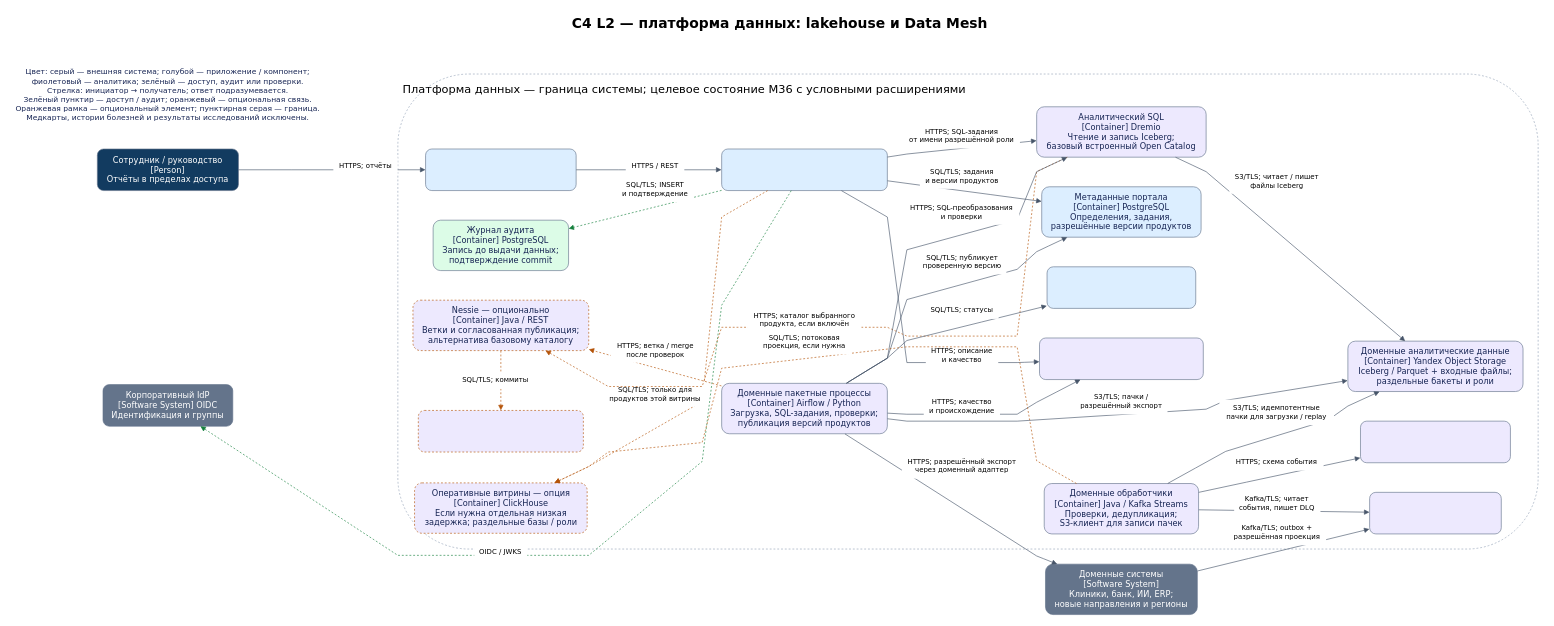
Some shapes in this 1554 by 626 pixel diagram are drawn without their labels. Each missing label, with the box of its shape:
API портала [Container] Go Доступ, планы и задания отчётов: (721, 148, 887, 191)
Web-портал [Container] React Каталог, конструктор, отчёты: (425, 148, 576, 191)
Аналитические события [Container] Kafka Разрешённые факты; DLQ: (1369, 492, 1501, 534)
Каталог продуктов [Container] OpenMetadata Владельцы, контракты, качество: (1039, 337, 1203, 380)
Контракты событий [Container] Apicurio Registry Версии и совместимость схем: (1360, 421, 1510, 463)
Состояние Airflow [Container] PostgreSQL Запуски, статусы, watermarks: (1046, 266, 1196, 308)
Состояние Nessie — опционально [Container] PostgreSQL Коммиты и ссылки каталога: (418, 410, 583, 452)
